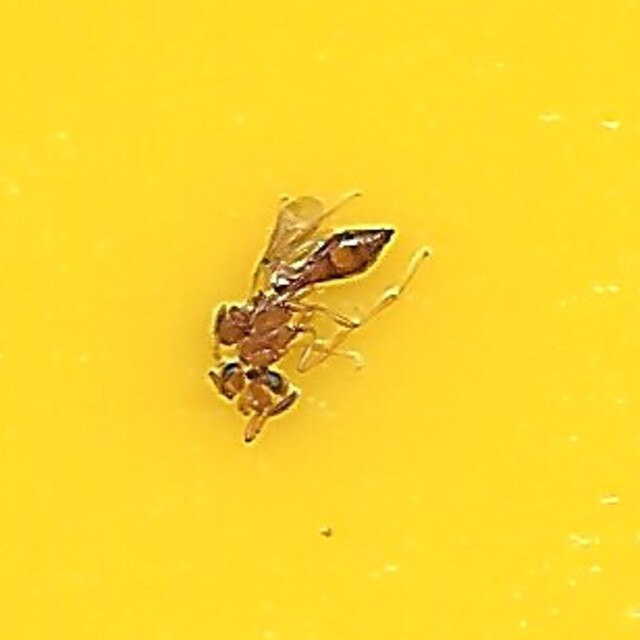Hymenoptera: (208, 196, 432, 444)
